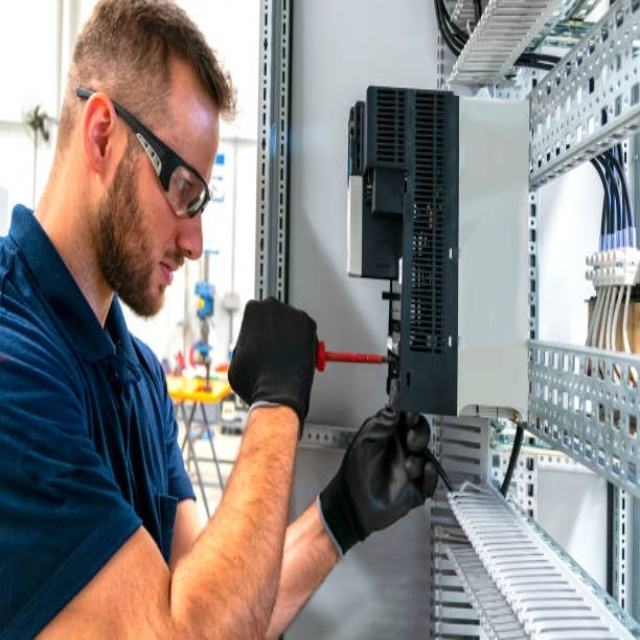Gafas: (79, 88, 213, 220)
Guantes: (319, 397, 441, 556), (228, 297, 319, 436)
Sin_mascara: (135, 248, 190, 317)
